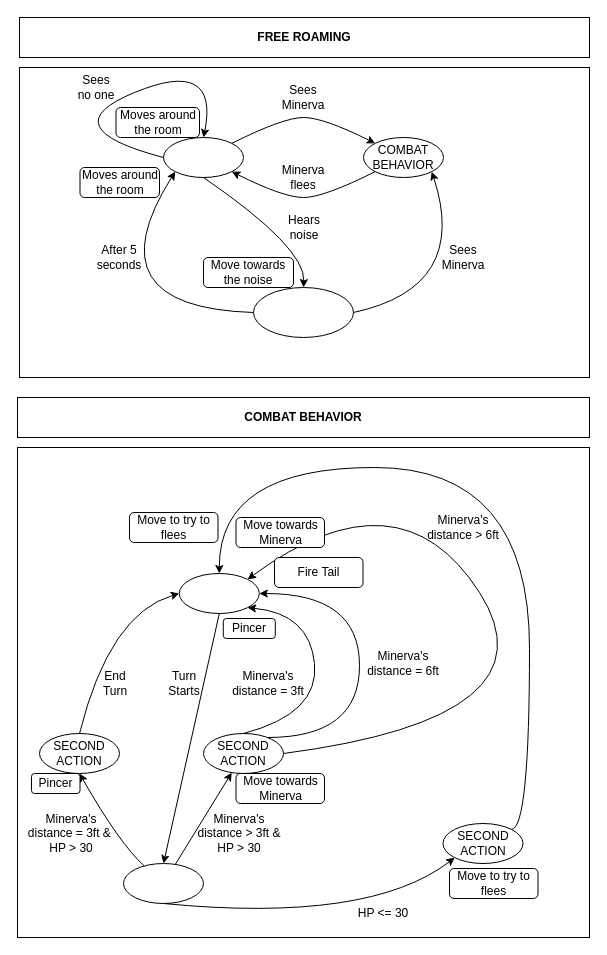
Some shapes in this 607 by 955 pixel diagram are drawn without their labels. The centre of each missing label's shape, as x and y in pixels:
"AGGRESSIVE" goes at [303,312].
"FIRST ACTION" goes at [163,883].
"IDLE" goes at [203,157].
"WAIT TURN" goes at [218,593].
